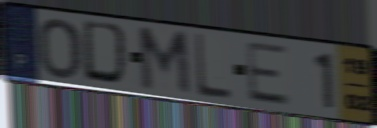1: (312, 51, 337, 111)
D: (81, 18, 133, 90)
E: (243, 39, 293, 108)
L: (192, 31, 233, 102)
M: (136, 25, 194, 99)
O: (36, 17, 83, 82)
